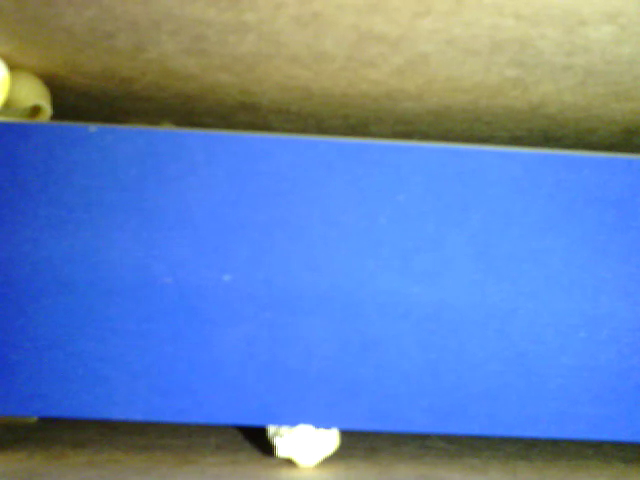shell: (4, 66, 53, 125)
